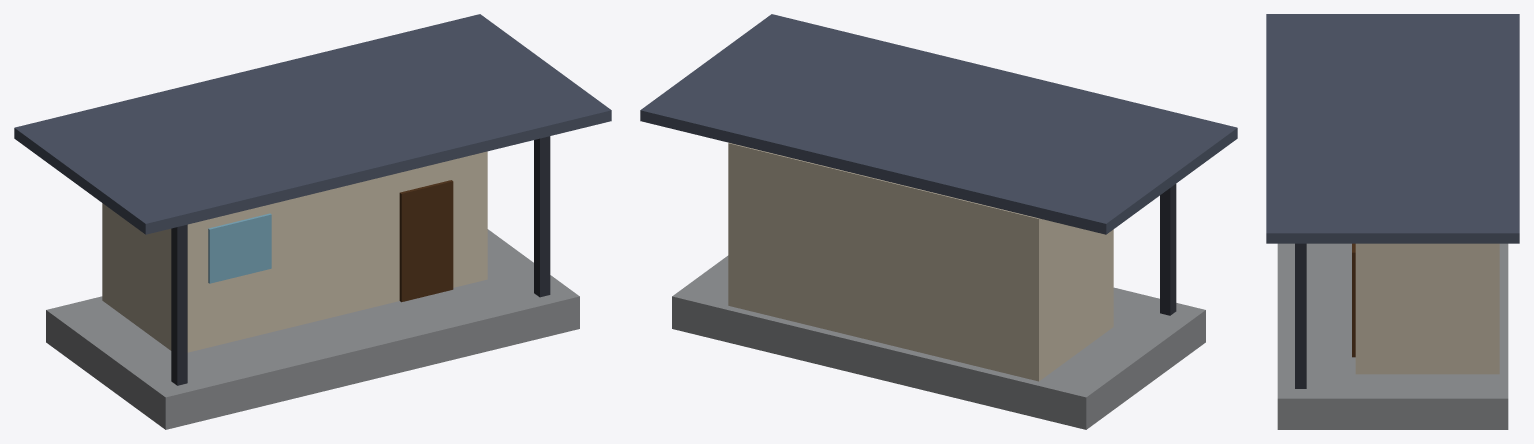
Rendered from station_shed.glb.
3 renders of one model, left to right at view 1: azimuth 30°, elevation 25°; view 2: azimuth 150°, elevation 25°; view 3: azimuth 270°, elevation 25°, orthographic. The views are drawn at different scales.
Visible parts, largest first — view 1: model; view 2: model; view 3: model.
Part boxes in pixels (x1,y1,x2,y2): model: [14, 14, 611, 429]; model: [640, 14, 1237, 429]; model: [1266, 14, 1519, 429].
Size of the model in its own units: 9 by 4 by 4.4.
